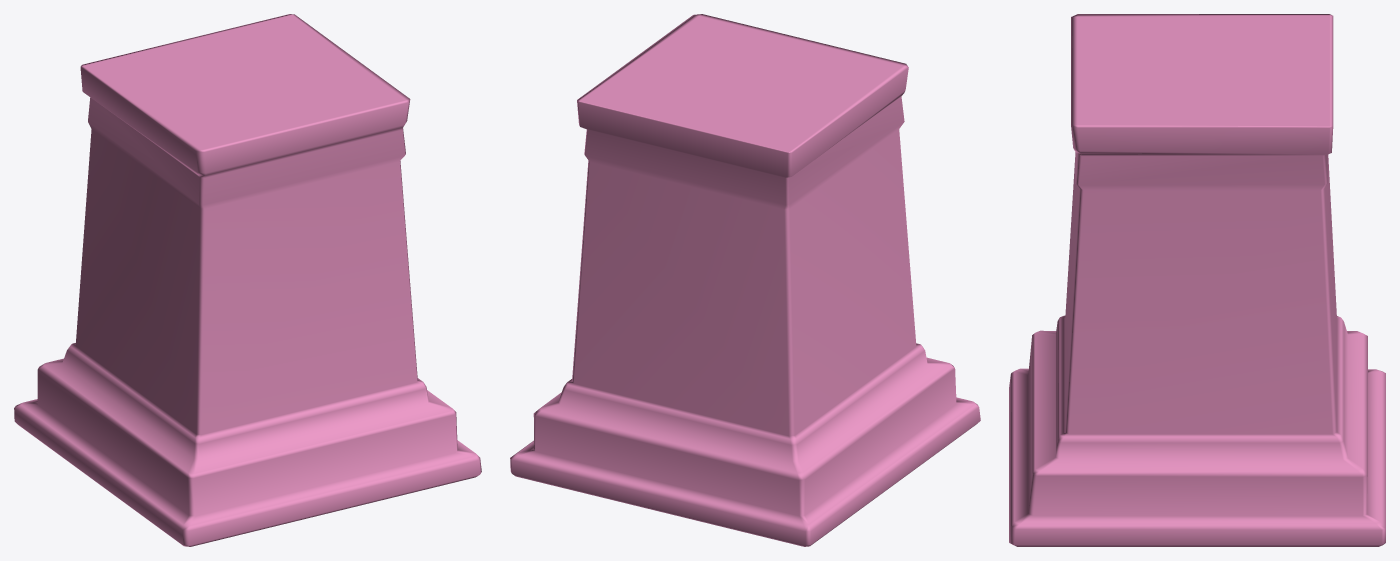
The model's file is Pillar_E.fbx.
3 views of the same model, side by side, from view 1: azimuth 30°, elevation 25°; view 2: azimuth 150°, elevation 25°; view 3: azimuth 270°, elevation 25° (orthographic). The views are drawn at different scales.
Visible parts, largest first — view 1: Pillar_E; view 2: Pillar_E; view 3: Pillar_E.
Boxes of the visible parts, left/top/right/bottom form: Pillar_E: left=14, top=14, right=481, bottom=546; Pillar_E: left=510, top=14, right=980, bottom=546; Pillar_E: left=1009, top=14, right=1385, bottom=546.
Size of the model in its own units: 0.8577 by 0.8586 by 1.
